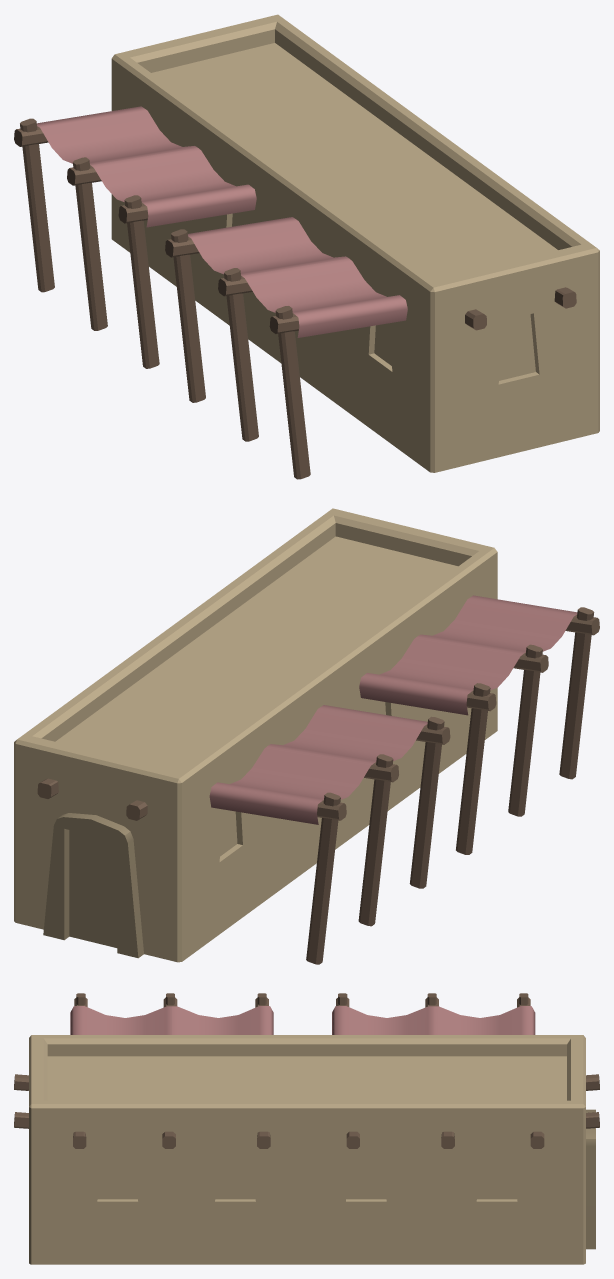
The model's file is Hut_02.fbx.
3 views of the same model, one above another, from view 1: azimuth 30°, elevation 25°; view 2: azimuth 150°, elevation 25°; view 3: azimuth 270°, elevation 25° (orthographic). The views are drawn at different scales.
Parts seen in each view (by area): view 1: Hut_02; view 2: Hut_02; view 3: Hut_02.
Boxes of the visible parts, left/top/right/bottom form: Hut_02: left=14, top=14, right=599, bottom=479; Hut_02: left=14, top=508, right=599, bottom=964; Hut_02: left=14, top=993, right=599, bottom=1264.
Bounding box in the file's own units: 3 × 1.7 × 5.64.
